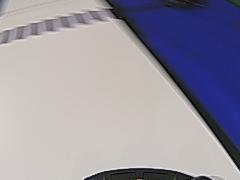CrossWalk: (0, 6, 123, 44)
